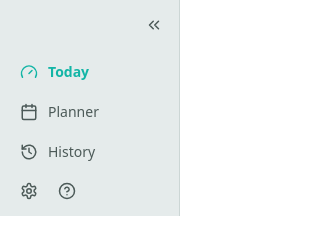
it: Nav › a found update shows its version, its release notes and how to update
This screenshot has width=320, height=233.
What coordinates should you click on to do the following:
click the button named "Help and about"
I would click on:
 (67, 191)
Its box is [50,174,84,208].
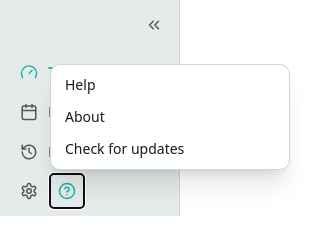
What coordinates should you click on to do the following:
click the menu item "Check for updates"
I would click on:
 (170, 149)
Its box is [55,133,285,165].
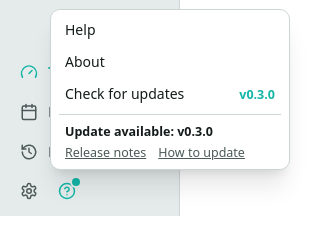
expect the message shows "Update available: v0.3.0": met, box [59,114,281,161]
